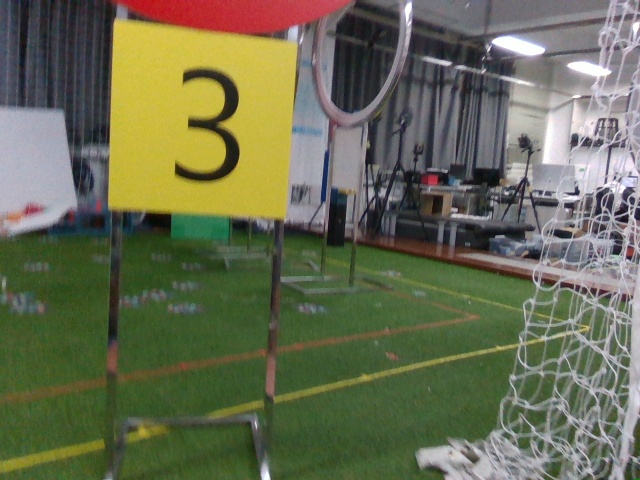target: (115, 52, 291, 207)
